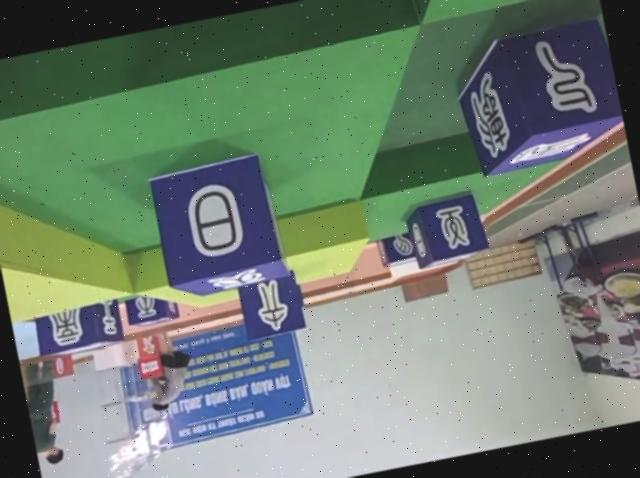R2 Fake Blue: (447, 12, 628, 174), (148, 150, 295, 301), (400, 189, 487, 268), (29, 298, 122, 359), (234, 266, 309, 340), (120, 290, 177, 329), (377, 231, 419, 268)
